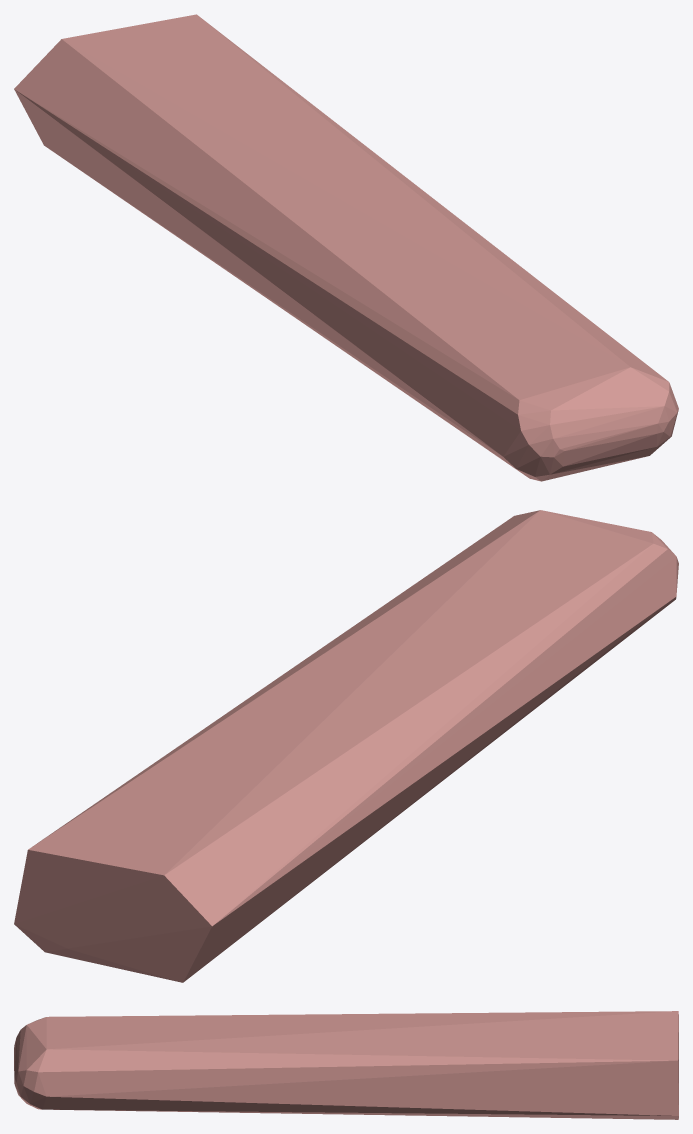
Rendered from medicine_c02.glb.
3 views of the same model, one above another, from view 1: azimuth 30°, elevation 25°; view 2: azimuth 150°, elevation 25°; view 3: azimuth 270°, elevation 25° (orthographic). The views are drawn at different scales.
Parts seen in each view (by area): view 1: geometry_0; view 2: geometry_0; view 3: geometry_0.
Boxes of the visible parts, x1,y1,x2,y2 form: geometry_0: (14,14,678,481); geometry_0: (14,510,678,982); geometry_0: (14,1011,678,1119).
Size of the model in its own units: 0.1094 by 0.0559 by 0.48.
